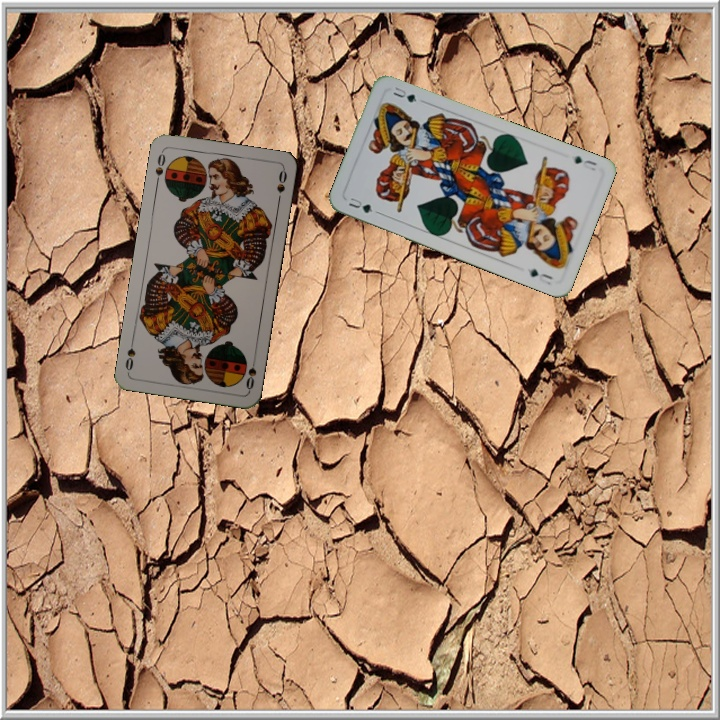GU: (344, 193, 375, 216), (570, 152, 599, 173)
SO: (151, 147, 168, 188), (242, 353, 259, 393)
